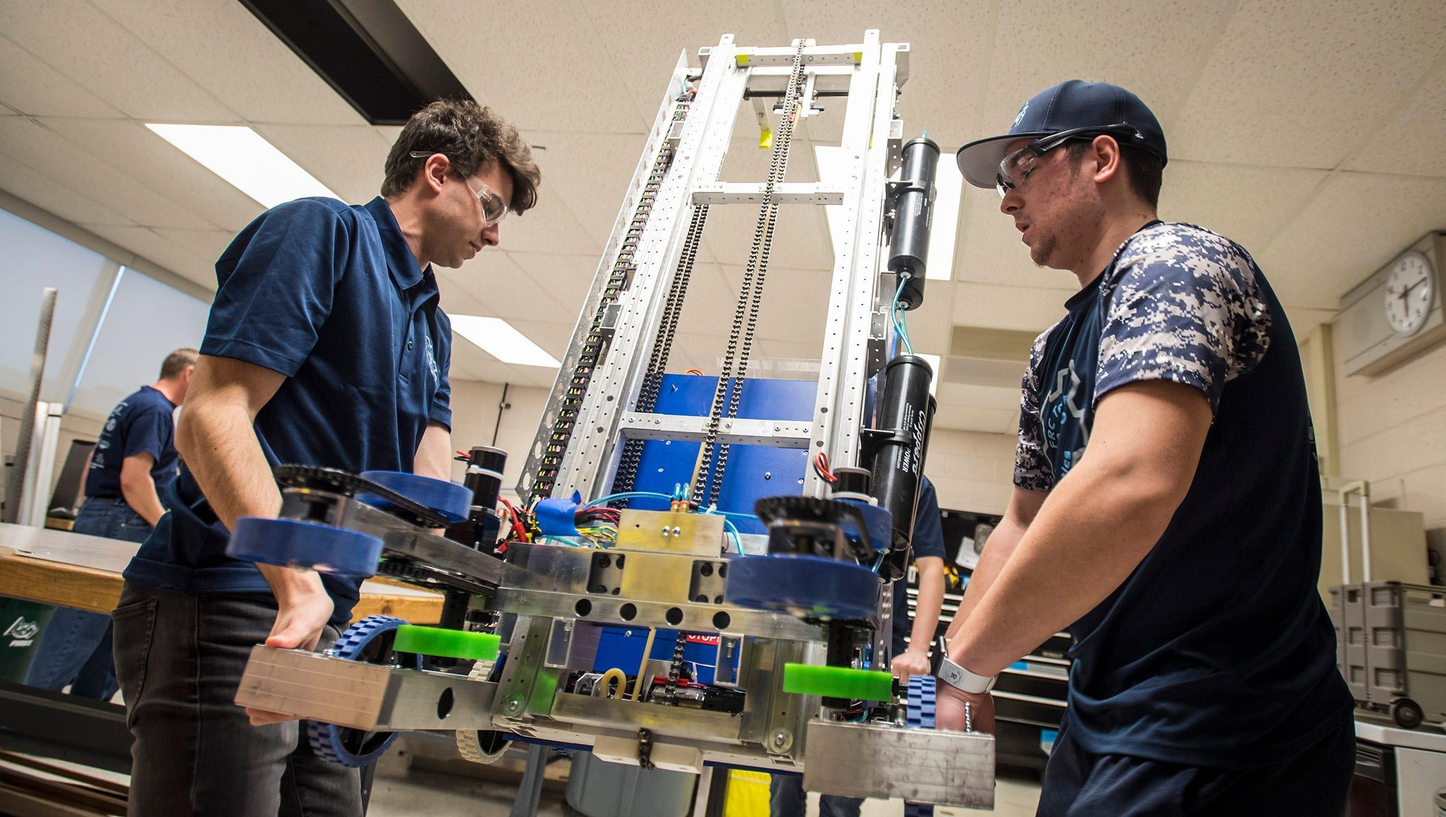robot: (243, 11, 1005, 812)
